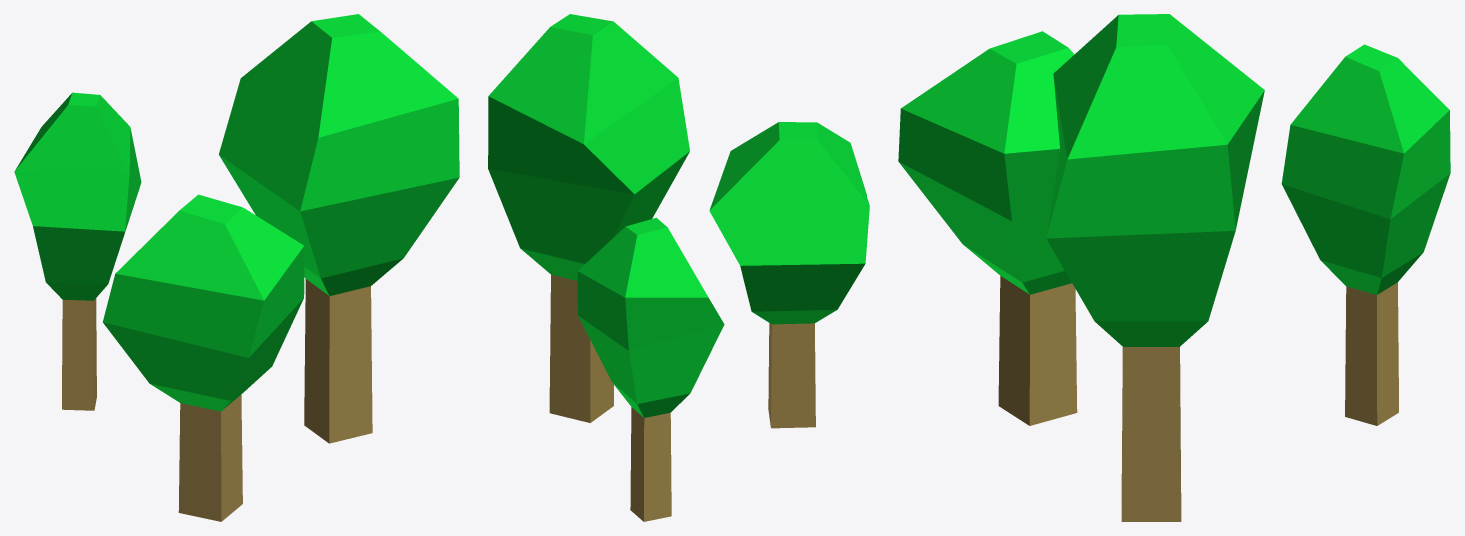
Rendered from ThreeTrees.fbx.
3 renders of one model, left to right at view 1: azimuth 30°, elevation 25°; view 2: azimuth 150°, elevation 25°; view 3: azimuth 270°, elevation 25°, orthographic. The views are drawn at different scales.
Visible parts, largest first — view 1: Cube.001, Cube.002, Cube; view 2: Cube.001, Cube.002, Cube; view 3: Cube.001, Cube.002, Cube.
Part boxes in pixels (bbox=[...]): Cube.001: bbox=[219, 14, 459, 443]; Cube.002: bbox=[103, 194, 304, 521]; Cube: bbox=[14, 92, 141, 410]; Cube.001: bbox=[488, 14, 689, 422]; Cube.002: bbox=[709, 122, 869, 428]; Cube: bbox=[577, 217, 724, 521]; Cube.001: bbox=[1046, 14, 1264, 521]; Cube.002: bbox=[898, 31, 1077, 425]; Cube: bbox=[1281, 44, 1450, 425].
Size of the model in its own units: 520 by 457 by 505.
